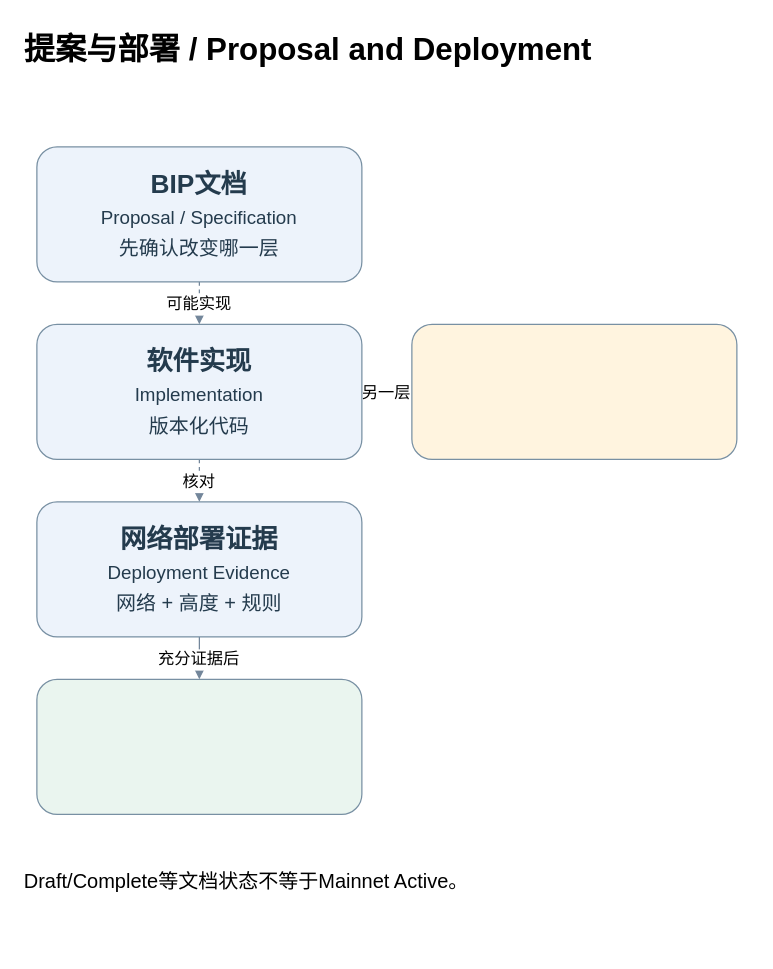
Some shapes in this 773 by 969 pixel diagram are drawn without their labels. The shapes that lost their labels are listed below. From the top down, each one's centre as x and y in pixels, then its label:
pixel 574 391: 节点政策 Relay Policy 与共识分别解释
pixel 199 746: 适用共识 Active Rules 不能由编号直接推断
